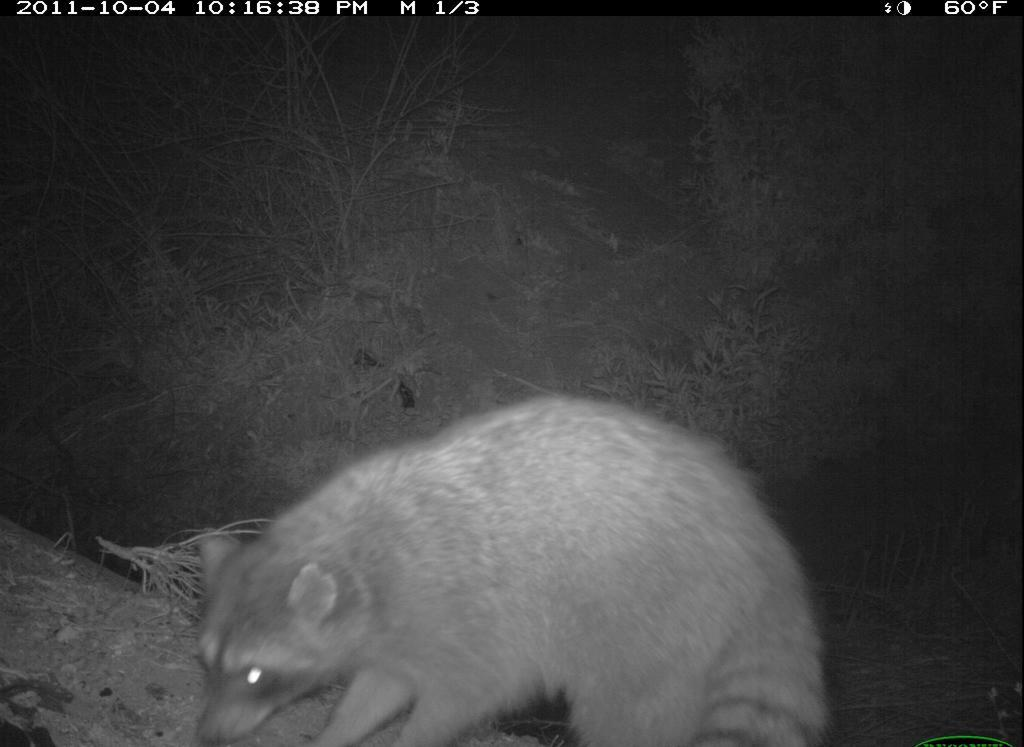raccoon: (146, 392, 833, 747)
